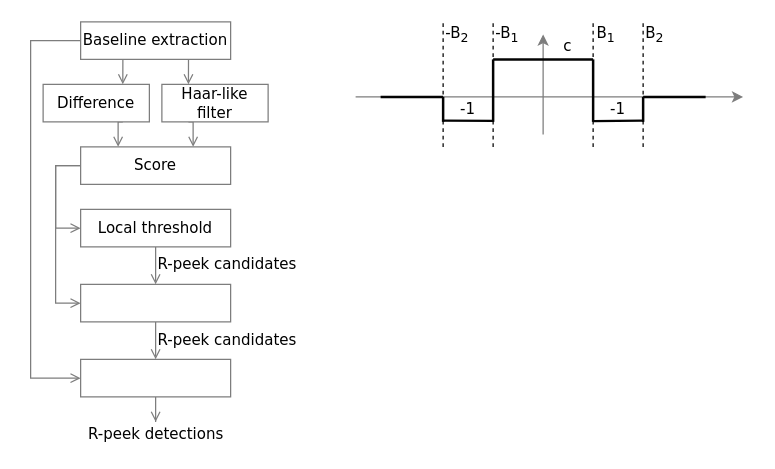
The diagram is 775 pixels wide and 469 high, and some of its shapes have lost their labels. The shapes that lost their labels are listed below. From the top down, each one's centre as x and y in pixels, then its label:
point 155,302: Adaptive score threshold
point 155,377: Variation ratio sifting
